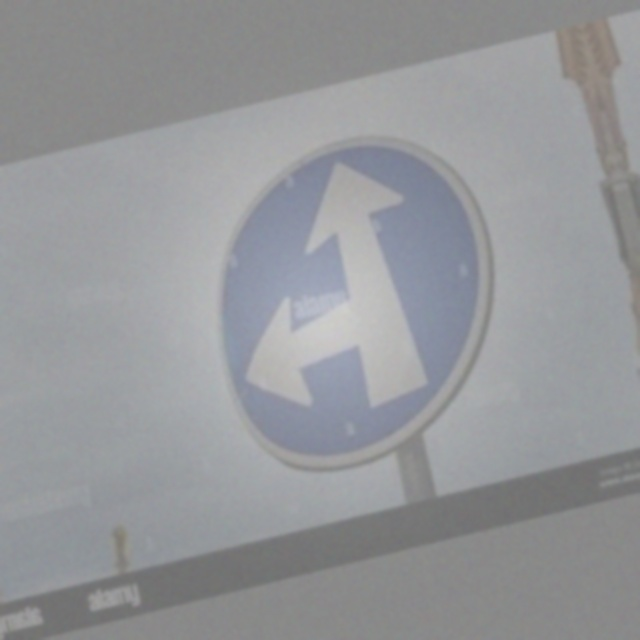Compulsory_Ahead_or_Turn_Left: (186, 115, 528, 481)
